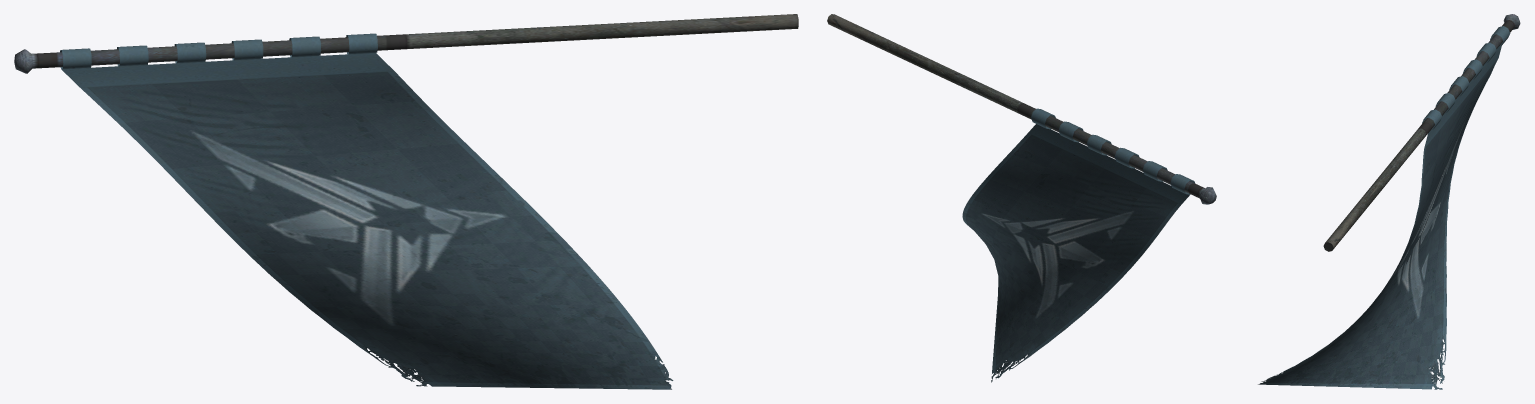
File: mp_flag_allies_1_carry_LOD0.obj
3 views of the same model, side by side, from view 1: azimuth 30°, elevation 25°; view 2: azimuth 150°, elevation 25°; view 3: azimuth 270°, elevation 25° (orthographic). The views are drawn at different scales.
Visible parts, largest first — view 1: mtl_flag_allies_1, mtl_mp_flag_base; view 2: mtl_flag_allies_1, mtl_mp_flag_base; view 3: mtl_flag_allies_1, mtl_mp_flag_base.
Part boxes in pixels (<box>): mtl_flag_allies_1: <box>60,33,673,389</box>; mtl_mp_flag_base: <box>14,14,798,73</box>; mtl_flag_allies_1: <box>962,108,1195,382</box>; mtl_mp_flag_base: <box>827,14,1216,204</box>; mtl_flag_allies_1: <box>1258,26,1510,389</box>; mtl_mp_flag_base: <box>1323,14,1520,251</box>.
Bounding box in the file's own units: 131 × 74.03 × 69.83.
